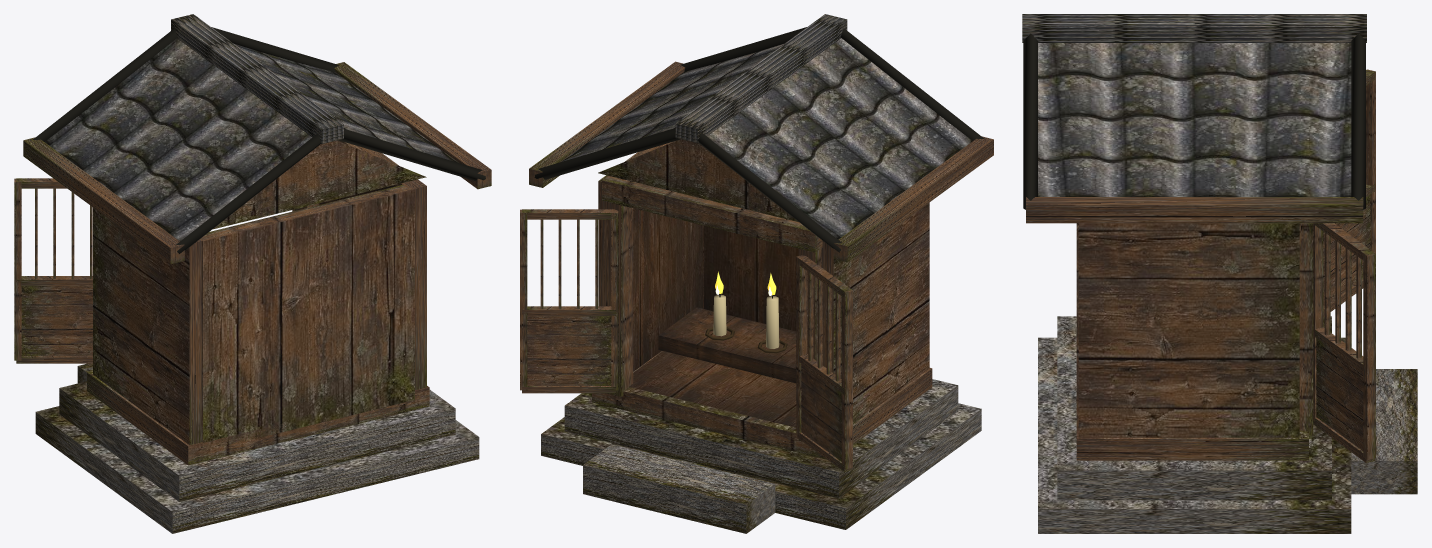
Rendered from nyanisyarud-yokai-hokora.glb.
3 renders of one model, left to right at view 1: azimuth 30°, elevation 25°; view 2: azimuth 150°, elevation 25°; view 3: azimuth 270°, elevation 25°, orthographic. The views are drawn at different scales.
Visible parts, largest first — view 1: Old_Hokora_Open_Doors_And_Candles; view 2: Old_Hokora_Open_Doors_And_Candles; view 3: Old_Hokora_Open_Doors_And_Candles.
Part boxes in pixels (left/top/right/bottom): Old_Hokora_Open_Doors_And_Candles: left=14, top=14, right=491, bottom=533; Old_Hokora_Open_Doors_And_Candles: left=520, top=14, right=993, bottom=533; Old_Hokora_Open_Doors_And_Candles: left=1022, top=14, right=1417, bottom=533.
Size of the model in its own units: 2.4 by 2.57 by 2.14.
3 materials, 1 textured.
